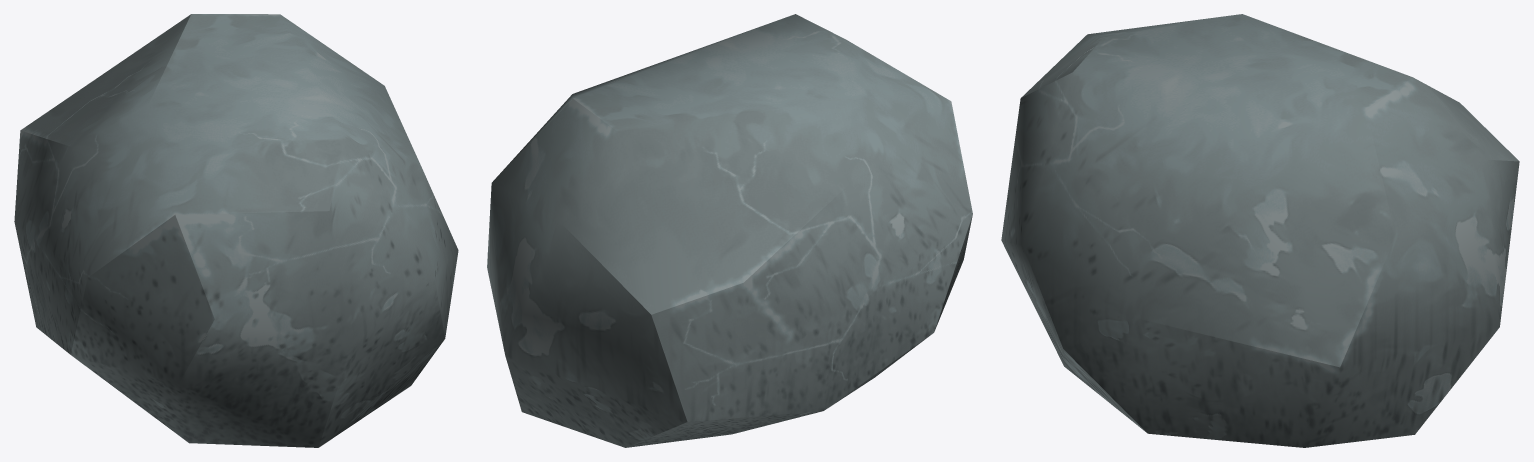
Rendered from stos_srodek.obj.
The picture shows the model from 3 angles, left to right: view 1: azimuth 30°, elevation 25°; view 2: azimuth 150°, elevation 25°; view 3: azimuth 270°, elevation 25°; orthographic projection. The views are drawn at different scales.
Visible parts, largest first — view 1: rock.001; view 2: rock.001; view 3: rock.001.
Part boxes in pixels (box(x1,y1,x2,y2)): rock.001: box(14, 14, 458, 447); rock.001: box(487, 14, 972, 447); rock.001: box(1001, 14, 1519, 447).
Bounding box in the file's own units: 10.45 × 7.76 × 11.57.
Materials: 1 (1 with a texture image).
